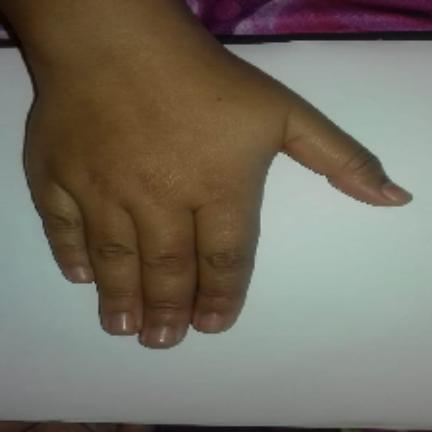Nail: (381, 182, 413, 205), (108, 313, 137, 336), (149, 325, 176, 348), (197, 312, 224, 333), (70, 265, 94, 283)
